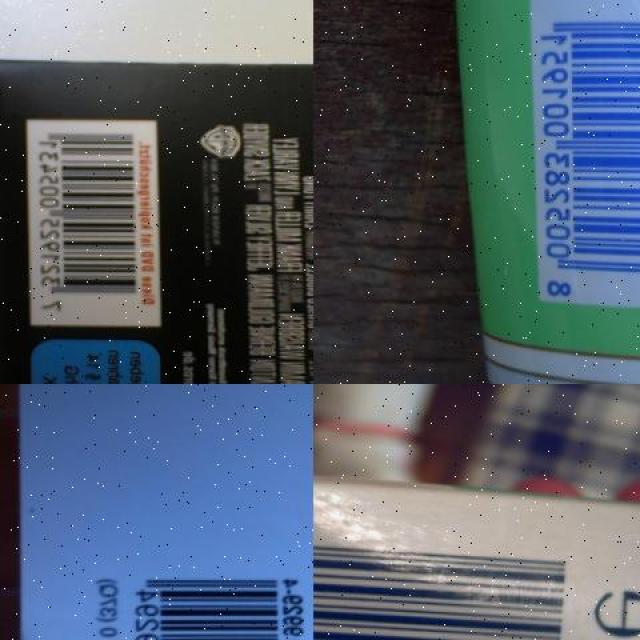Barcode: (529, 0, 639, 309), (313, 521, 579, 640), (28, 118, 159, 325), (122, 560, 306, 640)
